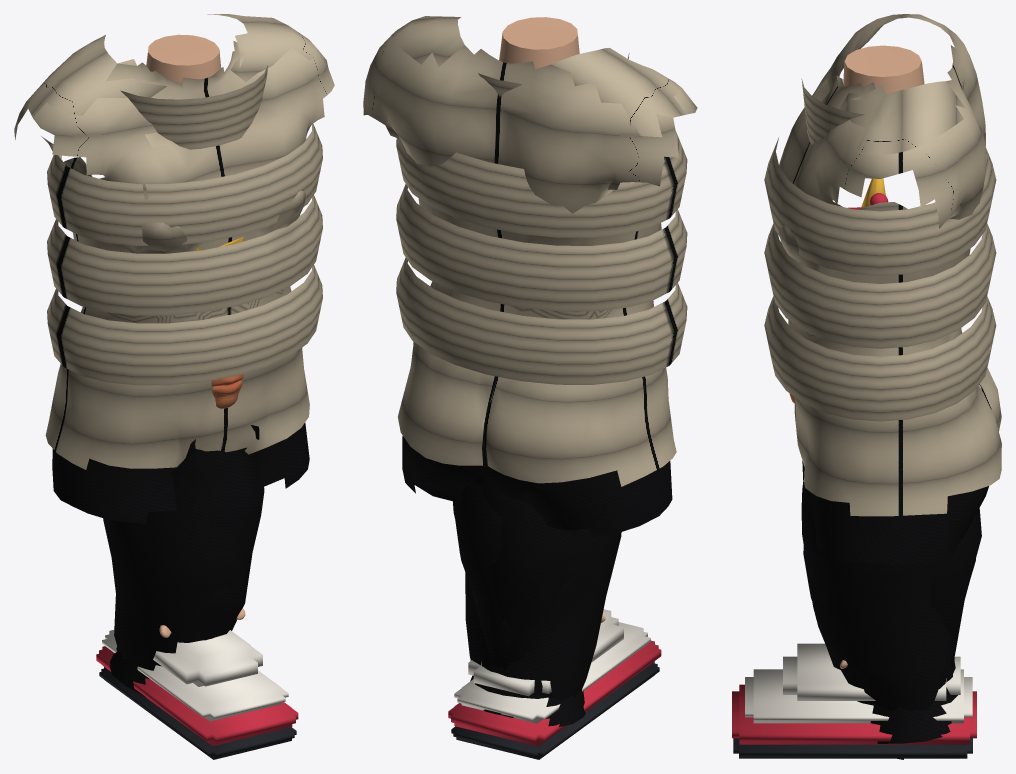
The picture shows the model from 3 angles, left to right: view 1: azimuth 30°, elevation 25°; view 2: azimuth 150°, elevation 25°; view 3: azimuth 270°, elevation 25°; orthographic projection. The views are drawn at different scales.
Parts seen in each view (by area): view 1: Torso, ThighL, ShinL, ThighR, Head; view 2: Torso, ShinL, ThighL, ShinR, ThighR; view 3: Torso, ShinL, ThighR, ThighL, Head.
Part boxes in pixels (x1,y1,x2,y2): Torso: (14, 14, 334, 523); ThighL: (103, 439, 245, 670); ShinL: (96, 630, 298, 759); ThighR: (109, 425, 264, 696); Head: (194, 237, 243, 408); Torso: (363, 16, 697, 537); ShinL: (448, 484, 661, 759); ThighL: (470, 466, 621, 715); ShinR: (482, 480, 573, 671); ThighR: (453, 465, 585, 726); Torso: (764, 14, 1001, 564); ShinL: (732, 508, 981, 758); ThighR: (801, 482, 951, 759); ThighL: (802, 461, 957, 743); Head: (789, 178, 888, 404).
Size of the model in its own units: 0.5006 by 1.06 by 0.3767.
Materials: 13 (5 with a texture image).
